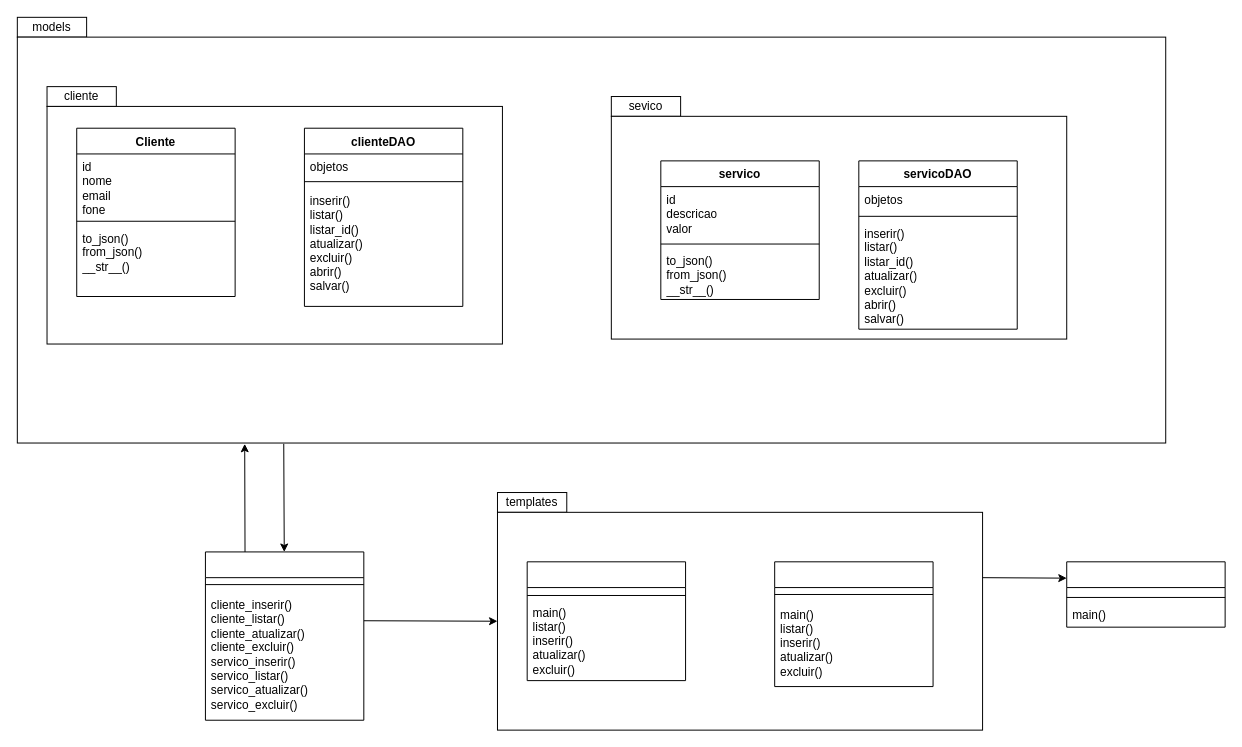
The diagram is 1242 pixels wide and 747 high, and some of its shapes have lost their labels. The shapes that lost their labels are listed below. From the top down, each one's box as (x1, y1, x2, y2) in pixels, then its label:
(1066, 561, 1225, 627): IndexUI
(204, 551, 364, 720): View
(526, 561, 686, 681): materClienteUI
(774, 561, 933, 687): materServicoUI
